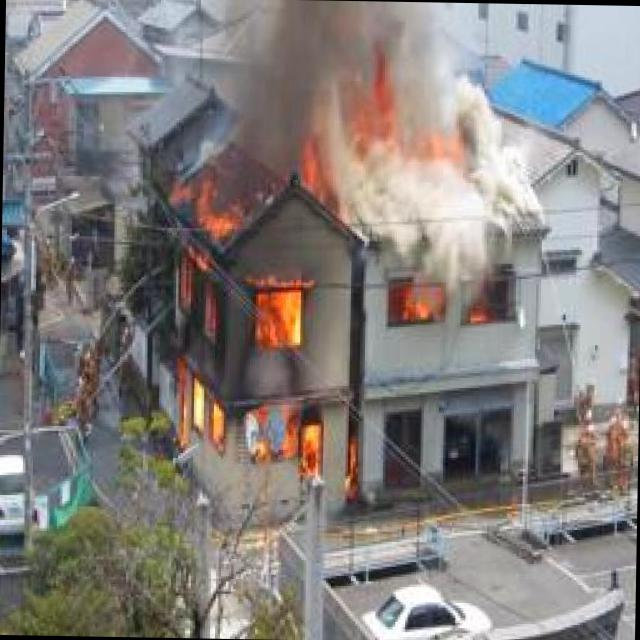Fire: (162, 172, 332, 480), (360, 84, 459, 160), (396, 286, 440, 326)
Smoke: (233, 0, 543, 253)
